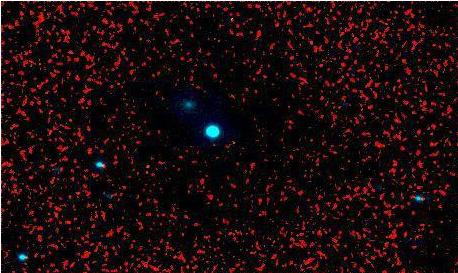star: (334, 88, 364, 118)
